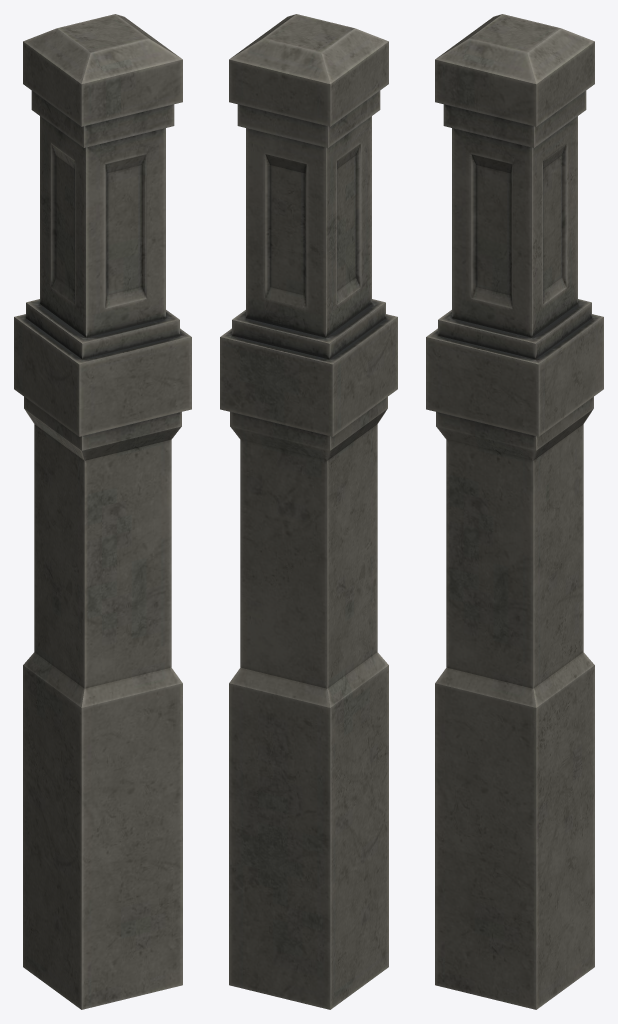
Rendered from SM_Pillar1.fbx.
3 renders of one model, left to right at view 1: azimuth 30°, elevation 25°; view 2: azimuth 150°, elevation 25°; view 3: azimuth 330°, elevation 25°, orthographic.
Parts seen in each view (by area): view 1: SM_Pillar1; view 2: SM_Pillar1; view 3: SM_Pillar1.
Part boxes in pixels (x1,y1,x2,y2): SM_Pillar1: (14, 14, 191, 1009); SM_Pillar1: (220, 14, 397, 1009); SM_Pillar1: (426, 14, 603, 1009).
Size of the model in its own units: 72.91 by 72.91 by 583.
